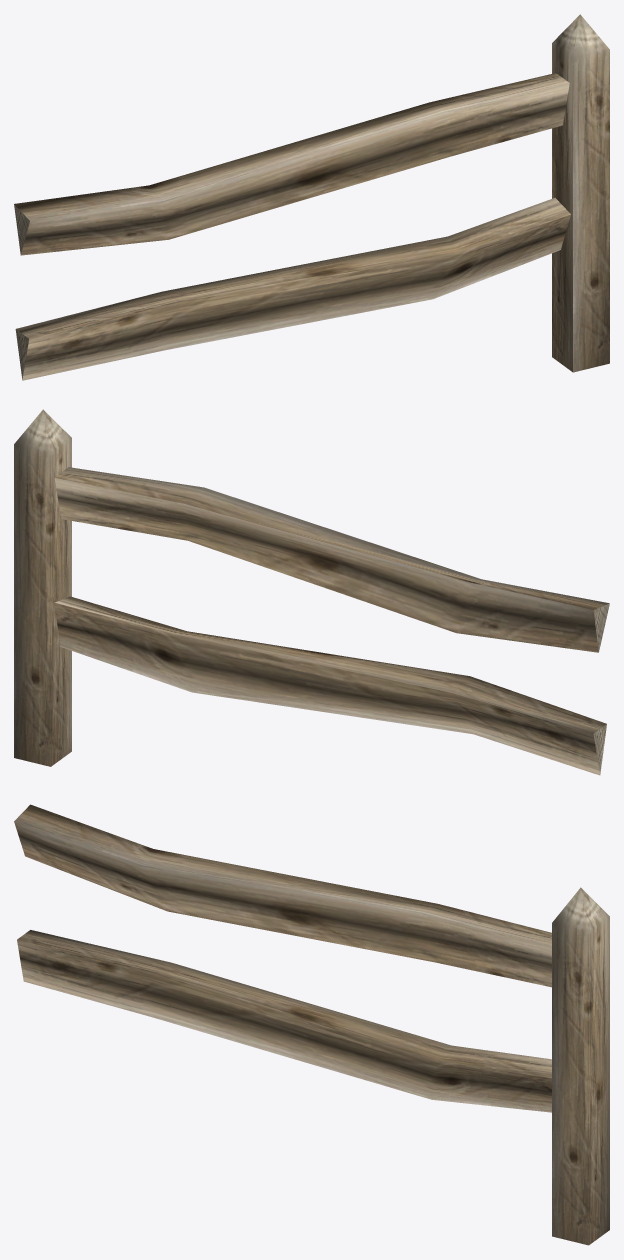
The model's file is westfallfence.obj.
3 views of the same model, one above another, from view 1: azimuth 30°, elevation 25°; view 2: azimuth 150°, elevation 25°; view 3: azimuth 330°, elevation 25° (orthographic).
Size of the model in its own units: 4.3 by 2.46 by 0.3142.
